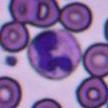N: (28, 29, 81, 79)
